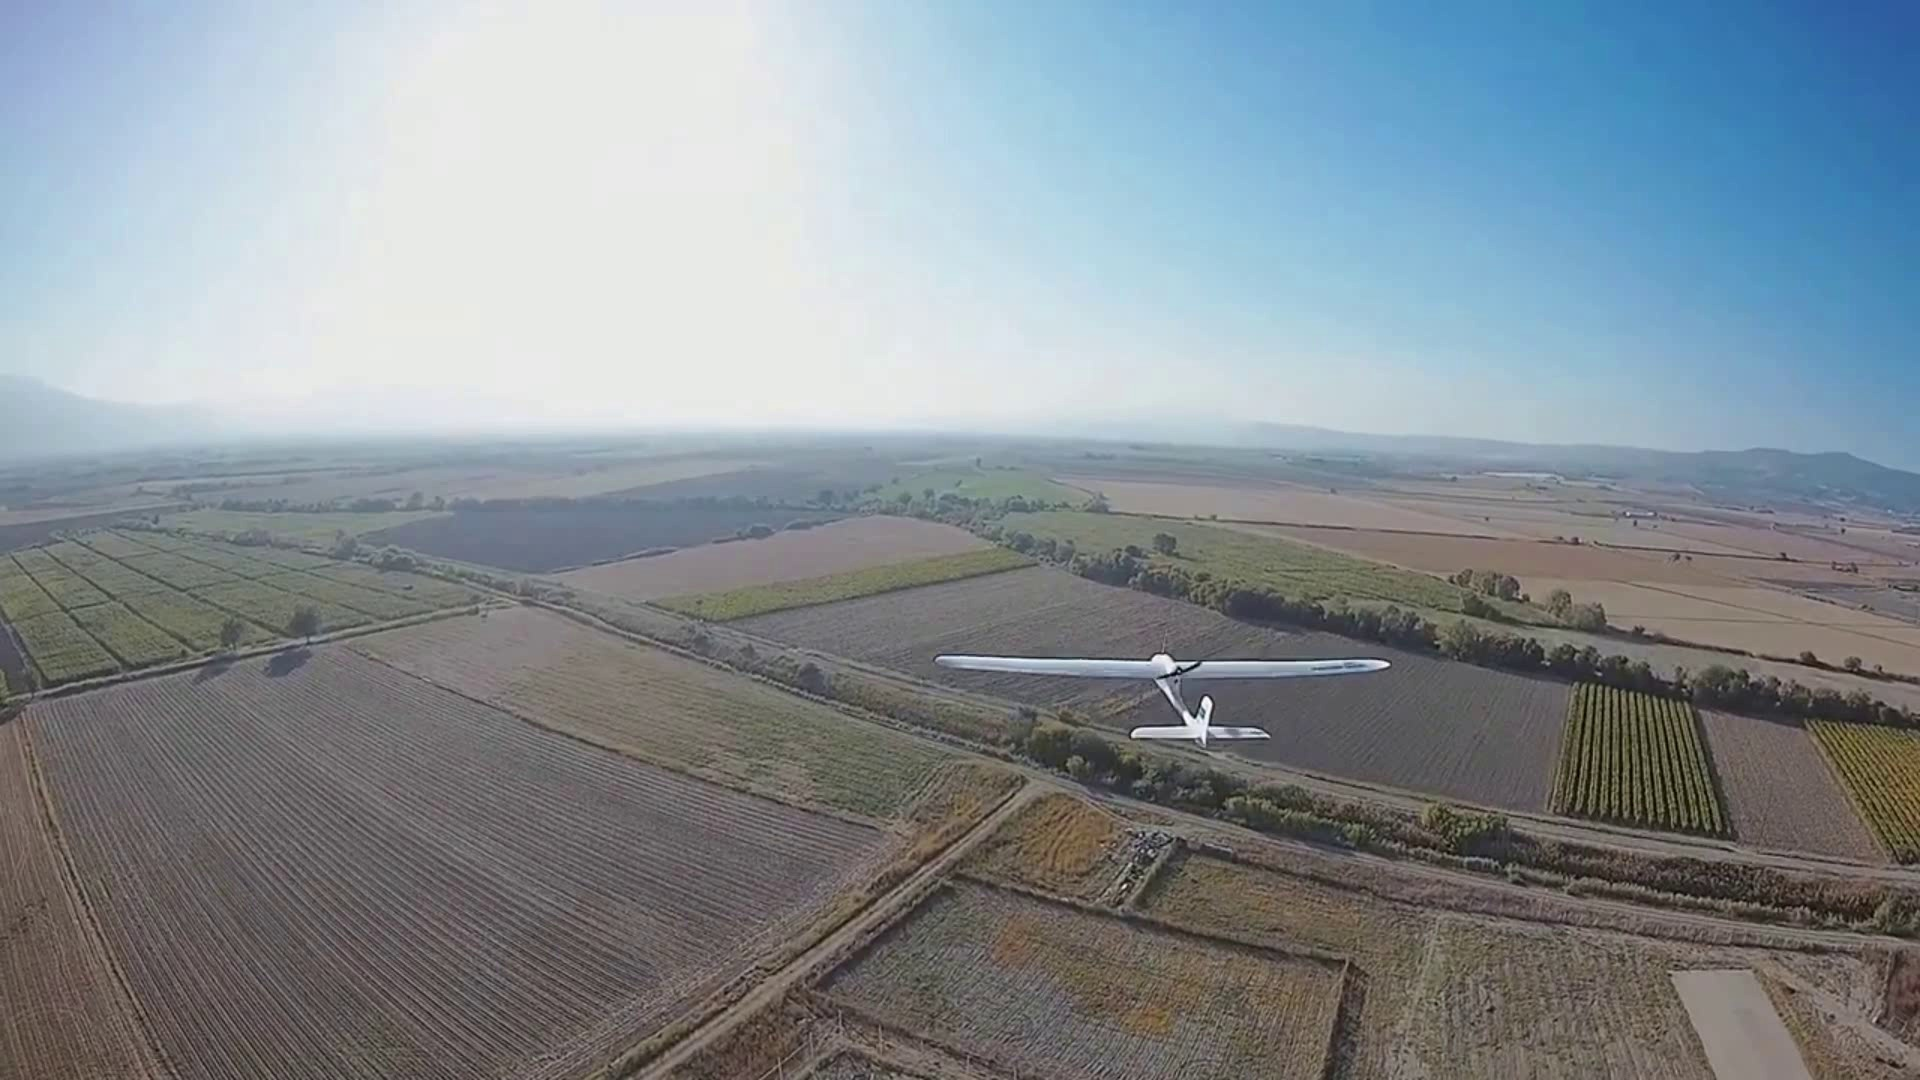airplane: (932, 640, 1393, 751)
